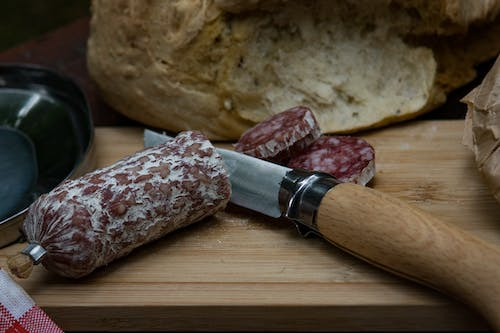knife: (140, 127, 500, 333)
